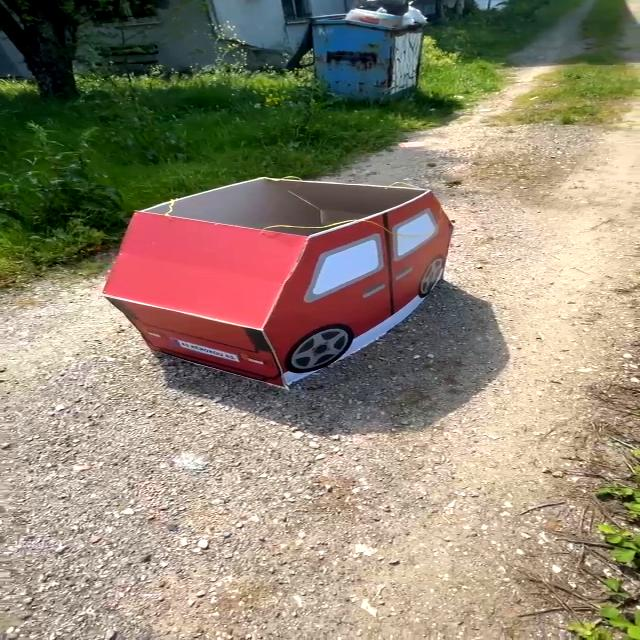red_car: (82, 143, 468, 403)
